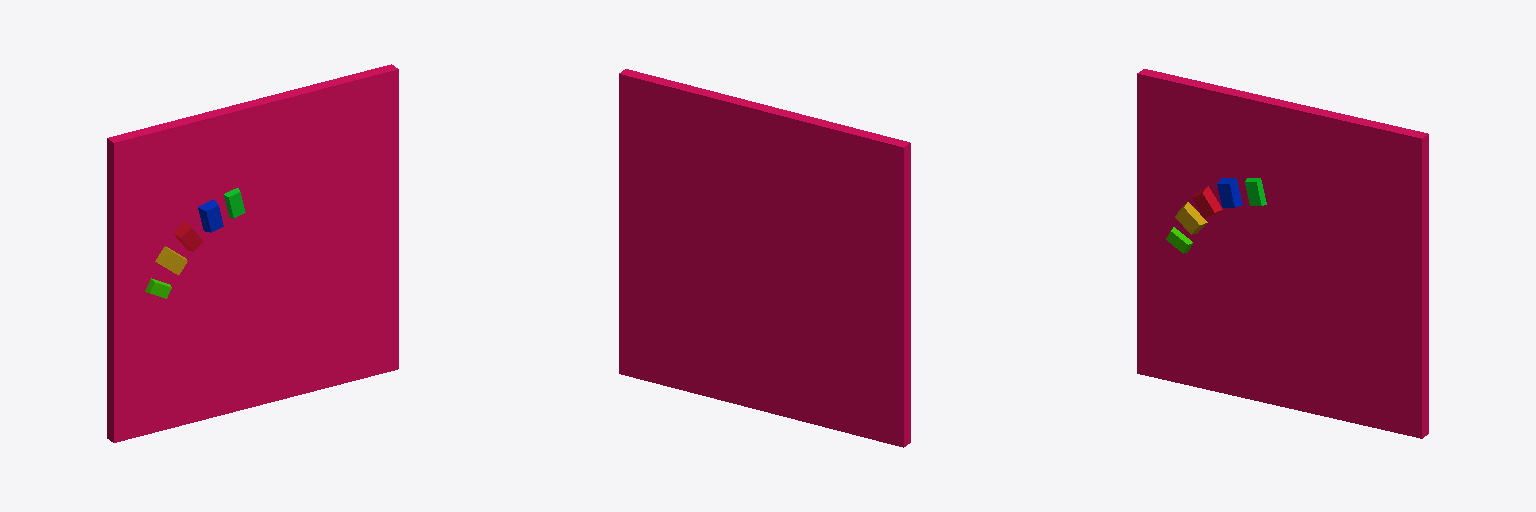
Rendered from phantom_collision_mesh.OBJ.
3 renders of one model, left to right at view 1: azimuth 30°, elevation 25°; view 2: azimuth 150°, elevation 25°; view 3: azimuth 330°, elevation 25°, orthographic.
Parts seen in each view (by area): view 1: phantom_collision_mesh_Plane.017; view 2: phantom_collision_mesh_Plane.017; view 3: phantom_collision_mesh_Plane.017.
Boxes of the visible parts, x1,y1,x2,y2 form: phantom_collision_mesh_Plane.017: [107, 64, 398, 442]; phantom_collision_mesh_Plane.017: [619, 69, 910, 447]; phantom_collision_mesh_Plane.017: [1137, 69, 1428, 438].
Bounding box in the file's own units: 0.1394 × 0.1424 × 0.0111.